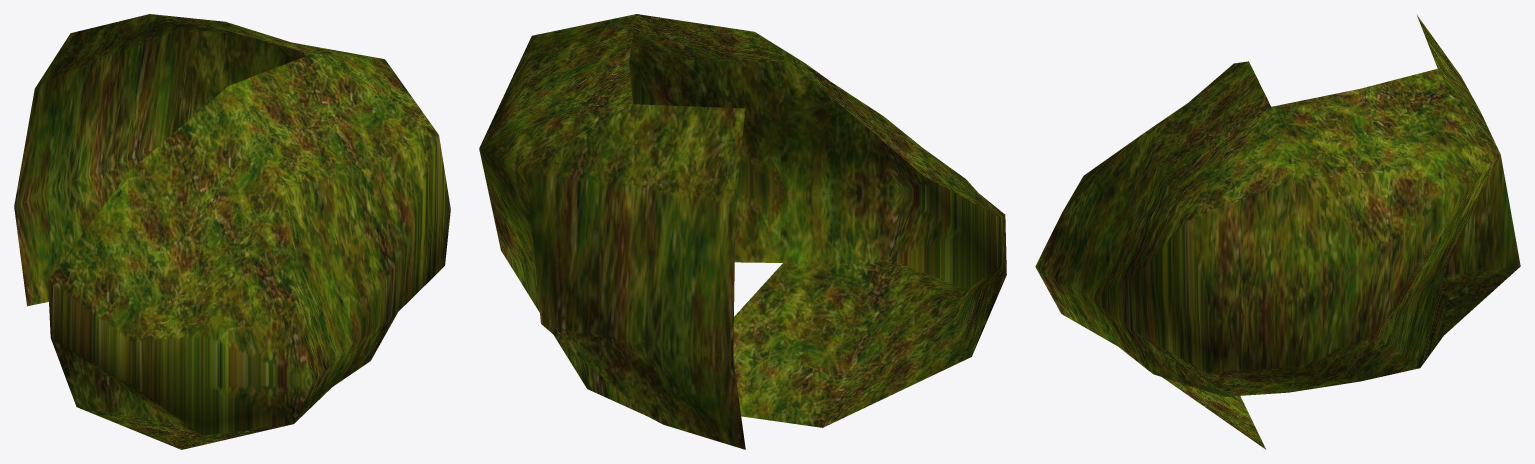
The model's file is TROLLHOLE02_BOX322.fbx.
The picture shows the model from 3 angles, left to right: view 1: azimuth 30°, elevation 25°; view 2: azimuth 150°, elevation 25°; view 3: azimuth 270°, elevation 25°; orthographic projection. The views are drawn at different scales.
Visible parts, largest first — view 1: TROLLHOLE02_BOX322; view 2: TROLLHOLE02_BOX322; view 3: TROLLHOLE02_BOX322.
Part boxes in pixels (left/top/right/bottom): TROLLHOLE02_BOX322: left=14, top=14, right=450, bottom=449; TROLLHOLE02_BOX322: left=479, top=14, right=1006, bottom=449; TROLLHOLE02_BOX322: left=1035, top=14, right=1520, bottom=449.
Size of the model in its own units: 75708 by 62302 by 76249.
Materials: 1 (1 with a texture image).
